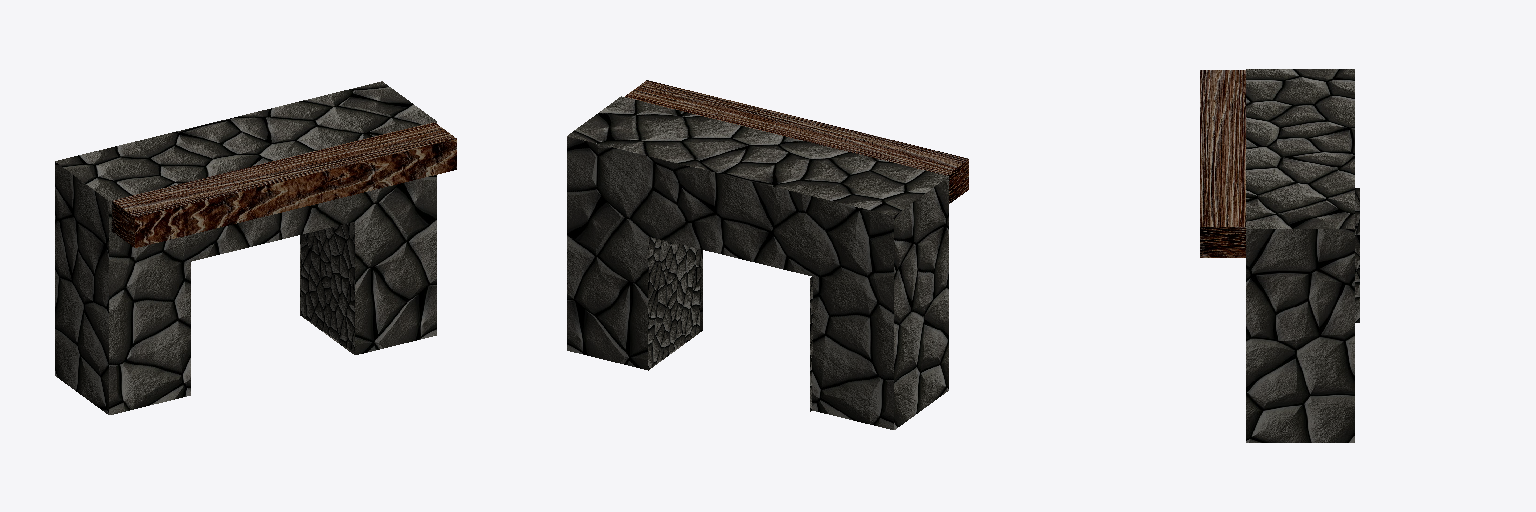
3 renders of one model, left to right at view 1: azimuth 30°, elevation 25°; view 2: azimuth 150°, elevation 25°; view 3: azimuth 270°, elevation 25°, orthographic.
Parts seen in each view (by area): view 1: Cube, Cube.001; view 2: Cube, Cube.001; view 3: Cube, Cube.001.
Boxes of the visible parts, <box> form: Cube: <box>55,81,436,414</box>; Cube.001: <box>112,122,456,247</box>; Cube: <box>567,96,948,429</box>; Cube.001: <box>625,80,968,203</box>; Cube: <box>1246,69,1359,442</box>; Cube.001: <box>1200,70,1245,257</box>.
Size of the model in its own units: 9.07 by 5.67 by 3.85.
Materials: 2 (2 with a texture image).